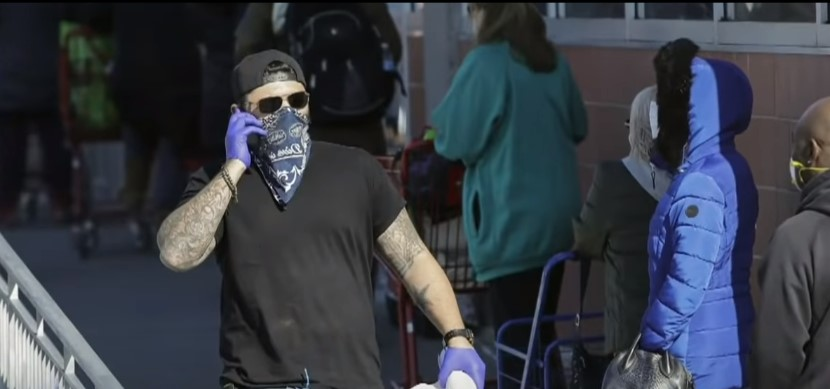face_with_mask: (232, 56, 314, 168), (788, 97, 829, 195)
